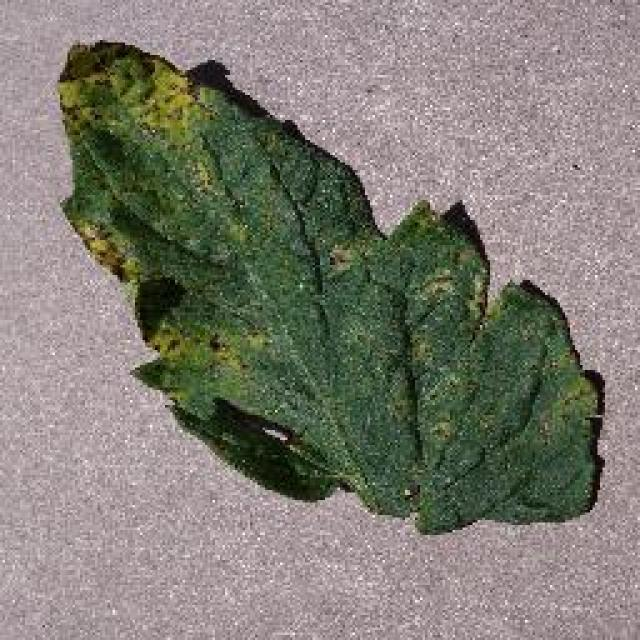Tomato target spot leaf: (55, 38, 603, 538)
